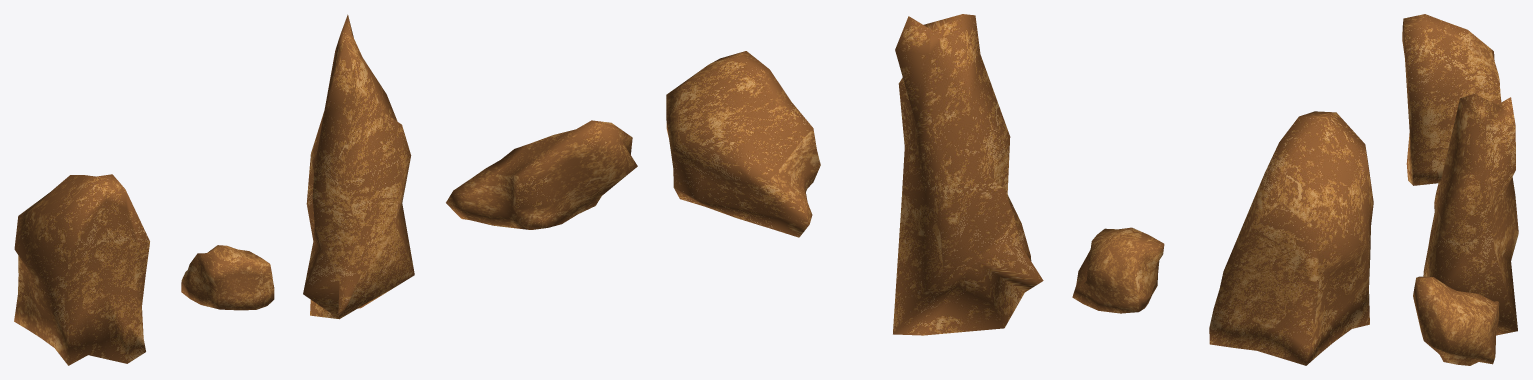
The model's file is rocks.fbx.
3 views of the same model, side by side, from view 1: azimuth 30°, elevation 25°; view 2: azimuth 150°, elevation 25°; view 3: azimuth 270°, elevation 25° (orthographic). The views are drawn at different scales.
Parts seen in each view (by area): view 1: medium_rock, plain_rock, horizontal_rock, small_rock; view 2: medium_rock, plain_rock, horizontal_rock, small_rock; view 3: medium_rock, plain_rock, horizontal_rock.
Boxes of the visible parts, x1,y1,x2,y2 form: medium_rock: (303,14,414,319); plain_rock: (14,174,149,365); horizontal_rock: (446,120,637,229); small_rock: (181,245,274,310); medium_rock: (893,14,1043,335); plain_rock: (1209,111,1373,365); horizontal_rock: (666,51,820,237); small_rock: (1072,227,1164,313); medium_rock: (1423,94,1518,335); plain_rock: (1402,14,1501,185); horizontal_rock: (1413,276,1500,365).
Size of the model in its own units: 2645 by 1192 by 526.
